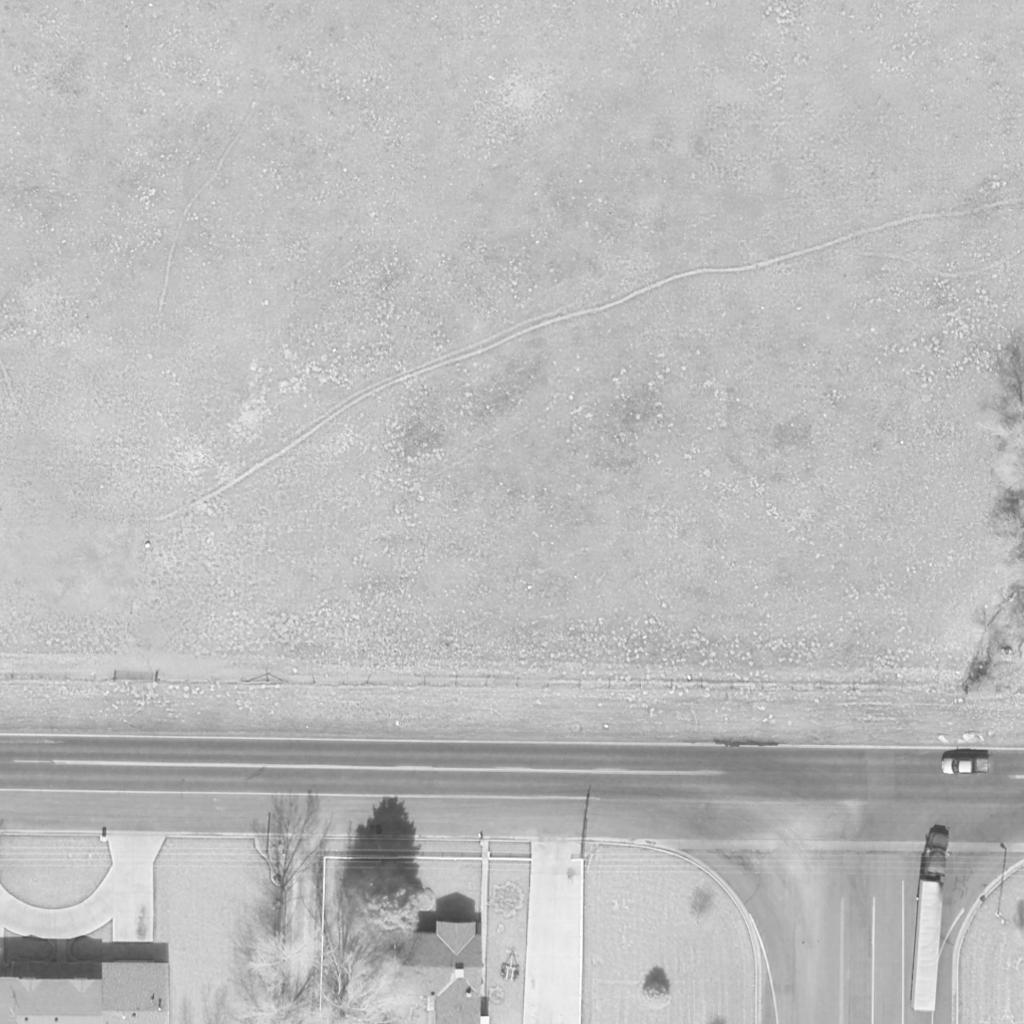vehicle: (905, 827, 955, 1017), (942, 757, 992, 773)
